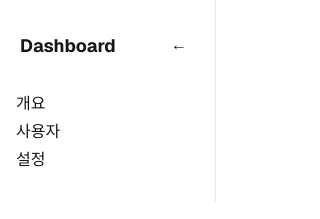
it: Sidebar › 토글 버튼을 두 번 클릭하면 nav 항목이 다시 전체 표시된다
Click the button named "사이드바 토글": click(179, 45) 163,32 -> 195,58
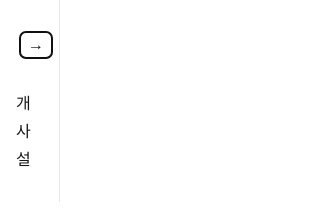
Click the button named "사이드바 토글": click(36, 45) 20,32 -> 52,58
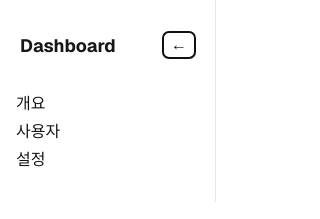
Now the link "개요" is shown, box 16,93 -> 46,114
